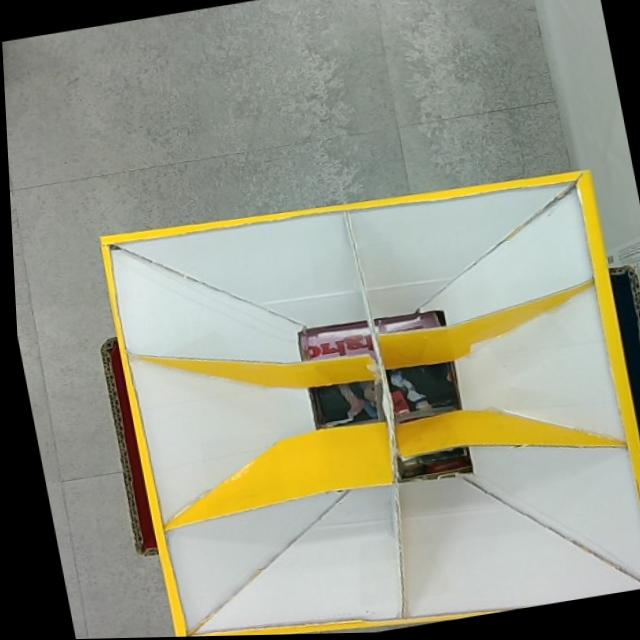box: (71, 158, 640, 639)
